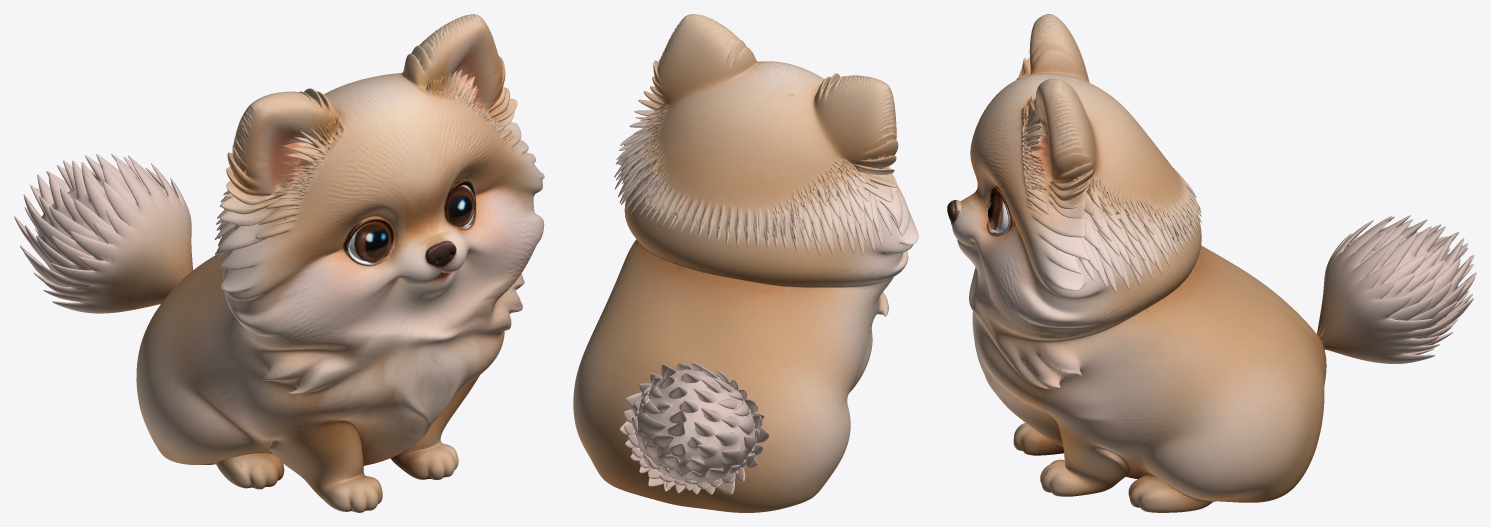
File: dog.glb
3 renders of one model, left to right at view 1: azimuth 30°, elevation 25°; view 2: azimuth 150°, elevation 25°; view 3: azimuth 270°, elevation 25°, orthographic. The views are drawn at different scales.
Visible parts, largest first — view 1: Mesh_0; view 2: Mesh_0; view 3: Mesh_0.
Part boxes in pixels (x1=…): Mesh_0: x1=14, y1=14, x2=544, y2=512; Mesh_0: x1=573, y1=14, x2=918, y2=512; Mesh_0: x1=947, y1=14, x2=1476, y2=512.
Bounding box in the file's own units: 0.7027 × 0.9028 × 1.03.
1 material, 1 textured.
